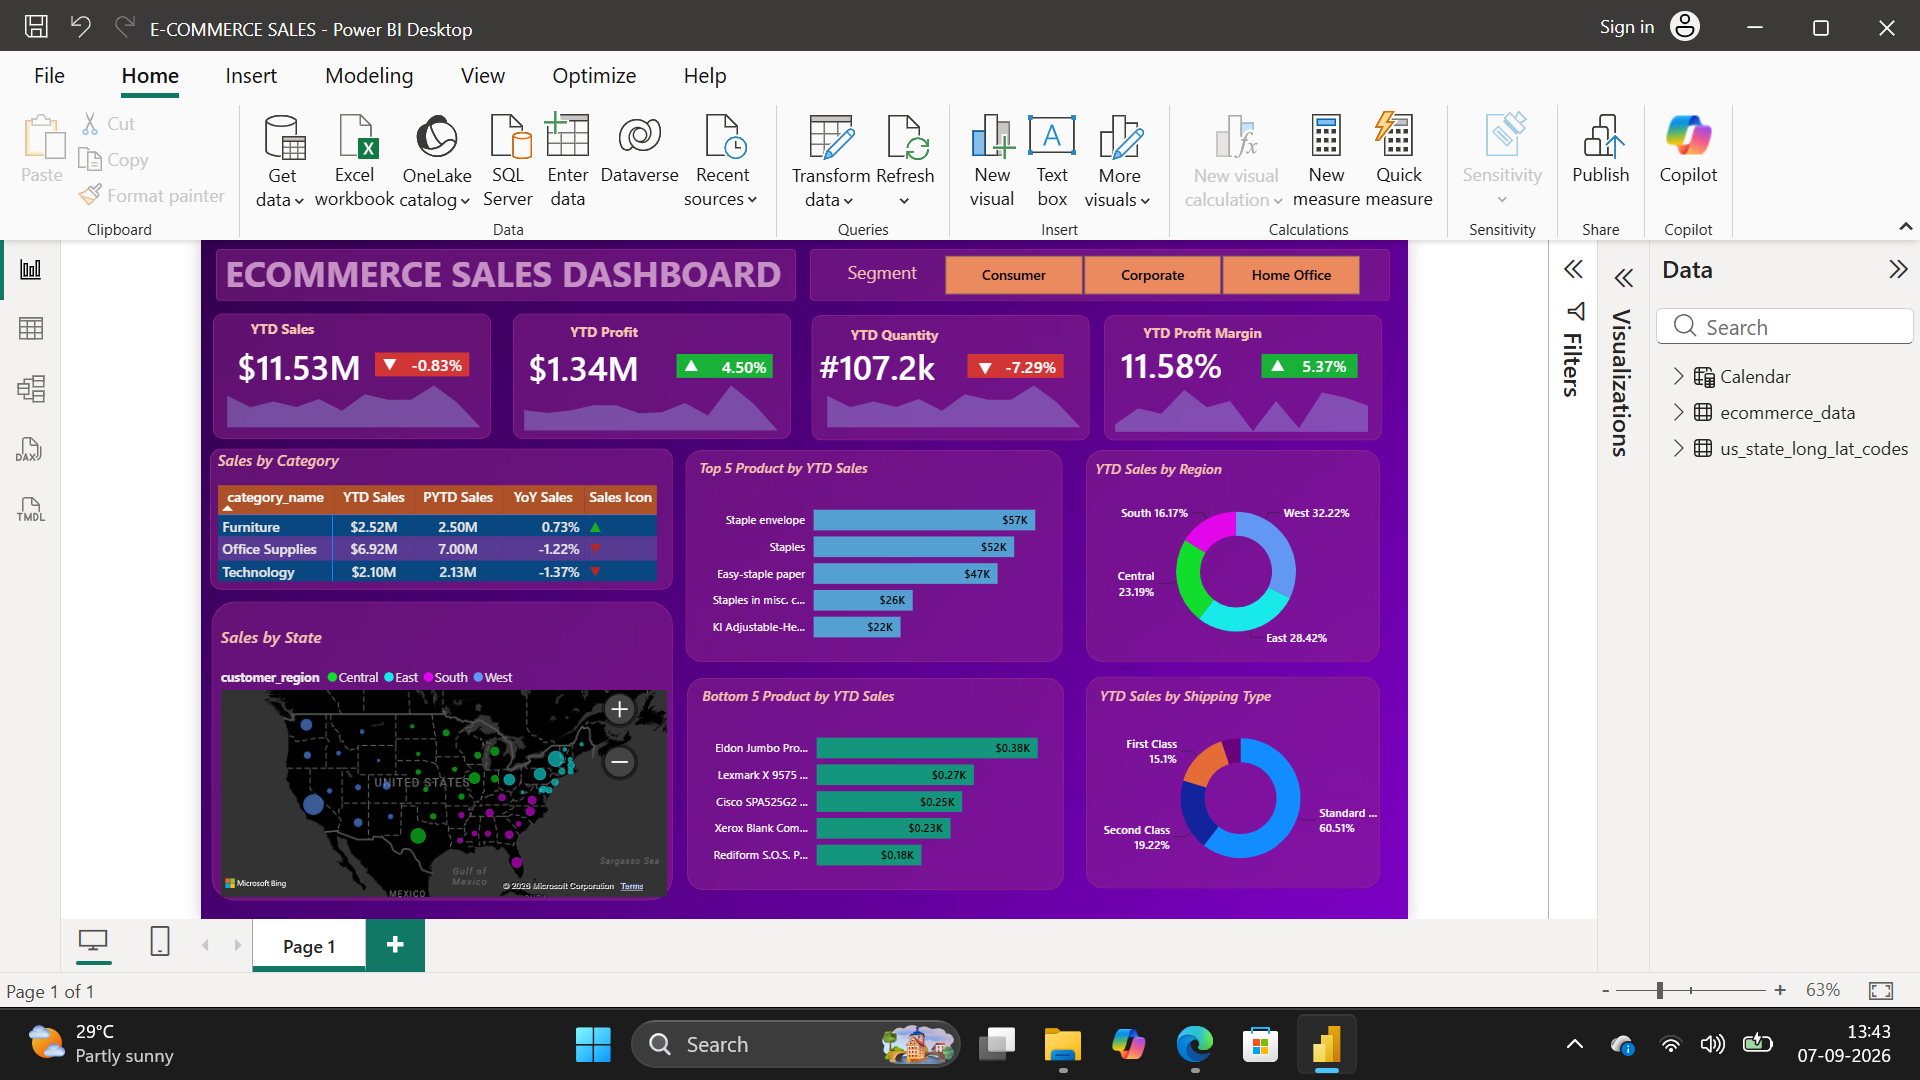

This screenshot's page, from the dashboard's own definition file:
{"tool":"powerbi","page":{"name":"Page 1","canvas":[1280,720],"ordinal":0},"visuals":[{"type":"shape","box":[646.3,9.4,615,55],"z":0},{"type":"textbox","box":[20.9,4.8,615.6,66.8],"z":1000},{"type":"shape","box":[12.7,77.9,295,133],"z":2000},{"type":"cardVisual","fields":{"Data":["ecommerce_data.YTD Sales"]},"box":[9.5,81.1,192.5,103.4],"z":3000},{"type":"areaChart","fields":{"Category":["Calendar.Month"],"Y":["Sum(ecommerce_data.sales_per_order)"]},"box":[12.7,140,297.4,63.6],"z":4000},{"type":"shape","box":[184.5,119.3,100.2,25.4],"z":5000},{"type":"cardVisual","fields":{"Data":["ecommerce_data.YoY Sales"]},"box":[194.1,105,124.1,52.5],"z":6000},{"type":"cardVisual","fields":{"Data":["ecommerce_data.Sales Icon"]},"box":[163.8,103.4,74.8,52.5],"z":7000},{"type":"textbox","box":[47.2,77.5,88.8,30.2],"z":8000},{"type":"shape","box":[331.5,77.3,295,133],"z":9000},{"type":"areaChart","fields":{"Category":["Calendar.Month"],"Y":["Sum(ecommerce_data.profit_per_order)"]},"box":[328.3,140,297.4,66.8],"z":10000},{"type":"shape","box":[503.7,120.7,101.8,25.4],"z":11000},{"type":"cardVisual","fields":{"Data":["ecommerce_data.YoY profit"]},"box":[523.1,103,124.1,60.4],"z":12000},{"type":"cardVisual","fields":{"Data":["ecommerce_data.Profit Icon"]},"box":[482.8,104.6,82.7,52.5],"z":13000},{"type":"textbox","box":[386.3,80.5,90.7,33.4],"z":14000},{"type":"cardVisual","fields":{"Data":["ecommerce_data.YTD Profit"]},"box":[318.7,82.1,192.5,103.4],"z":15000},{"type":"shape","box":[647,78.9,295,133],"z":16000},{"type":"textbox","box":[684,83.7,128.8,36.6],"z":17000},{"type":"cardVisual","fields":{"Data":["ecommerce_data.YTD Conacatenated Qty"]},"box":[626.1,80.5,192.5,103.4],"z":18000},{"type":"areaChart","fields":{"Category":["Calendar.Month"],"Y":["Sum(ecommerce_data.sales_per_order)"]},"box":[648.6,140,297.4,63.6],"z":19000},{"type":"shape","box":[812.7,120.7,101.8,25.4],"z":20000},{"type":"cardVisual","fields":{"Data":["ecommerce_data.YoY QTY"]},"box":[824,103,124.1,60.4],"z":21000},{"type":"cardVisual","fields":{"Data":["ecommerce_data.Quantity Icon"]},"box":[795,107.8,74.8,52.5],"z":22000},{"type":"shape","box":[957.5,79.5,295,133],"z":23000},{"type":"areaChart","fields":{"Category":["Calendar.Month"],"Y":["ecommerce_data.Profit Margin"]},"box":[954.4,144.7,297.4,63.6],"z":24000},{"type":"textbox","box":[639.4,370.6,87.5,38.2],"z":25000},{"type":"textbox","box":[994.1,82.7,144.7,38.2],"z":26000},{"type":"cardVisual","fields":{"Data":["ecommerce_data.YTD Profit Margin"]},"box":[946.4,79.5,192.5,103.4],"z":27000},{"type":"shape","box":[1124.6,120.9,101.8,25.4],"z":28000},{"type":"cardVisual","fields":{"Data":["ecommerce_data.Profit Margin Icon"]},"box":[1105.7,104.6,74.8,52.5],"z":29000},{"type":"cardVisual","fields":{"Data":["ecommerce_data.YoY Profit Margin"]},"box":[1139.5,101.4,124.1,60.4],"z":30000},{"type":"shape","box":[9.7,220.5,490.9,149.7],"z":31000},{"type":"pivotTable","title":"Sales by Category","fields":{"Rows":["ecommerce_data.category_name"],"Values":["ecommerce_data.YTD Sales","ecommerce_data.PYTD Sales","ecommerce_data.YoY Sales","ecommerce_data.Sales Icon"]},"box":[12.9,222.1,500.5,148.1],"z":32000},{"type":"shape","box":[11.3,383.6,489.3,317.1],"z":33000},{"type":"map","title":"Sales by State","fields":{"Y":["us_state_long_lat_codes.latitude"],"X":["us_state_long_lat_codes.longitude"],"Size":["ecommerce_data.YTD Sales"],"Series":["ecommerce_data.customer_region"]},"box":[15.1,408.2,482.8,292.9],"z":34000},{"type":"shape","box":[513.8,222.7,400,225],"z":35000},{"type":"shape","box":[515.4,464.5,400,225],"z":36000},{"type":"barChart","title":"Top 5 Product by YTD Sales","fields":{"Category":["ecommerce_data.product_name"],"Y":["ecommerce_data.YTD Sales"]},"box":[523.5,230.6,378,207.9],"z":37000},{"type":"barChart","title":"Bottom 5 Product by YTD Sales","fields":{"Category":["ecommerce_data.product_name"],"Y":["ecommerce_data.YTD Sales"]},"box":[527.2,472.4,378,207.9],"z":38000},{"type":"shape","box":[939.2,223,311.8,224.9],"z":39000},{"type":"shape","box":[939.2,463,311.8,224.9],"z":40000},{"type":"donutChart","title":"YTD Sales by Region","fields":{"Category":["ecommerce_data.customer_region"],"Y":["ecommerce_data.YTD Sales"]},"box":[943,232.4,308,207.9],"z":41000},{"type":"donutChart","title":"YTD Sales by Shipping Type","fields":{"Category":["ecommerce_data.shipping_type"],"Y":["ecommerce_data.YTD Sales"]},"box":[948.7,472.4,308,207.9],"z":42000},{"type":"shape","box":[15.1,9.4,615,55],"z":43000},{"type":"slicer","fields":{"Values":["ecommerce_data.customer_segment"]},"box":[763.5,9.4,489.5,54.8],"z":44000},{"type":"textbox","box":[655.8,15.1,134.2,47.2],"z":45000}]}

Visuals, with their boxes on the page's 1280x720 design canvas (x1, y1, x2, y2). These are canvas units, not pixel positions in the 1920x1080 screenshot, which may show the page scaled, cropped or inside an application window:
shape: crop(646, 9, 1261, 64)
textbox: crop(21, 5, 636, 72)
shape: crop(13, 78, 308, 211)
cardVisual - ecommerce_data.YTD Sales: crop(10, 81, 202, 184)
areaChart - Calendar.Month x Sum(ecommerce_data.sales_per_order): crop(13, 140, 310, 204)
shape: crop(184, 119, 285, 145)
cardVisual - ecommerce_data.YoY Sales: crop(194, 105, 318, 158)
cardVisual - ecommerce_data.Sales Icon: crop(164, 103, 239, 156)
textbox: crop(47, 78, 136, 108)
shape: crop(332, 77, 626, 210)
areaChart - Calendar.Month x Sum(ecommerce_data.profit_per_order): crop(328, 140, 626, 207)
shape: crop(504, 121, 606, 146)
cardVisual - ecommerce_data.YoY profit: crop(523, 103, 647, 163)
cardVisual - ecommerce_data.Profit Icon: crop(483, 105, 566, 157)
textbox: crop(386, 80, 477, 114)
cardVisual - ecommerce_data.YTD Profit: crop(319, 82, 511, 186)
shape: crop(647, 79, 942, 212)
textbox: crop(684, 84, 813, 120)
cardVisual - ecommerce_data.YTD Conacatenated Qty: crop(626, 80, 819, 184)
areaChart - Calendar.Month x Sum(ecommerce_data.sales_per_order): crop(649, 140, 946, 204)
shape: crop(813, 121, 914, 146)
cardVisual - ecommerce_data.YoY QTY: crop(824, 103, 948, 163)
cardVisual - ecommerce_data.Quantity Icon: crop(795, 108, 870, 160)
shape: crop(958, 80, 1252, 212)
areaChart - Calendar.Month x ecommerce_data.Profit Margin: crop(954, 145, 1252, 208)
textbox: crop(639, 371, 727, 409)
textbox: crop(994, 83, 1139, 121)
cardVisual - ecommerce_data.YTD Profit Margin: crop(946, 80, 1139, 183)
shape: crop(1125, 121, 1226, 146)
cardVisual - ecommerce_data.Profit Margin Icon: crop(1106, 105, 1180, 157)
cardVisual - ecommerce_data.YoY Profit Margin: crop(1140, 101, 1264, 162)
shape: crop(10, 220, 501, 370)
"Sales by Category" pivotTable: crop(13, 222, 513, 370)
shape: crop(11, 384, 501, 701)
"Sales by State" map: crop(15, 408, 498, 701)
shape: crop(514, 223, 914, 448)
shape: crop(515, 464, 915, 690)
"Top 5 Product by YTD Sales" barChart: crop(524, 231, 902, 438)
"Bottom 5 Product by YTD Sales" barChart: crop(527, 472, 905, 680)
shape: crop(939, 223, 1251, 448)
shape: crop(939, 463, 1251, 688)
"YTD Sales by Region" donutChart: crop(943, 232, 1251, 440)
"YTD Sales by Shipping Type" donutChart: crop(949, 472, 1257, 680)
shape: crop(15, 9, 630, 64)
slicer - ecommerce_data.customer_segment: crop(764, 9, 1253, 64)
textbox: crop(656, 15, 790, 62)
